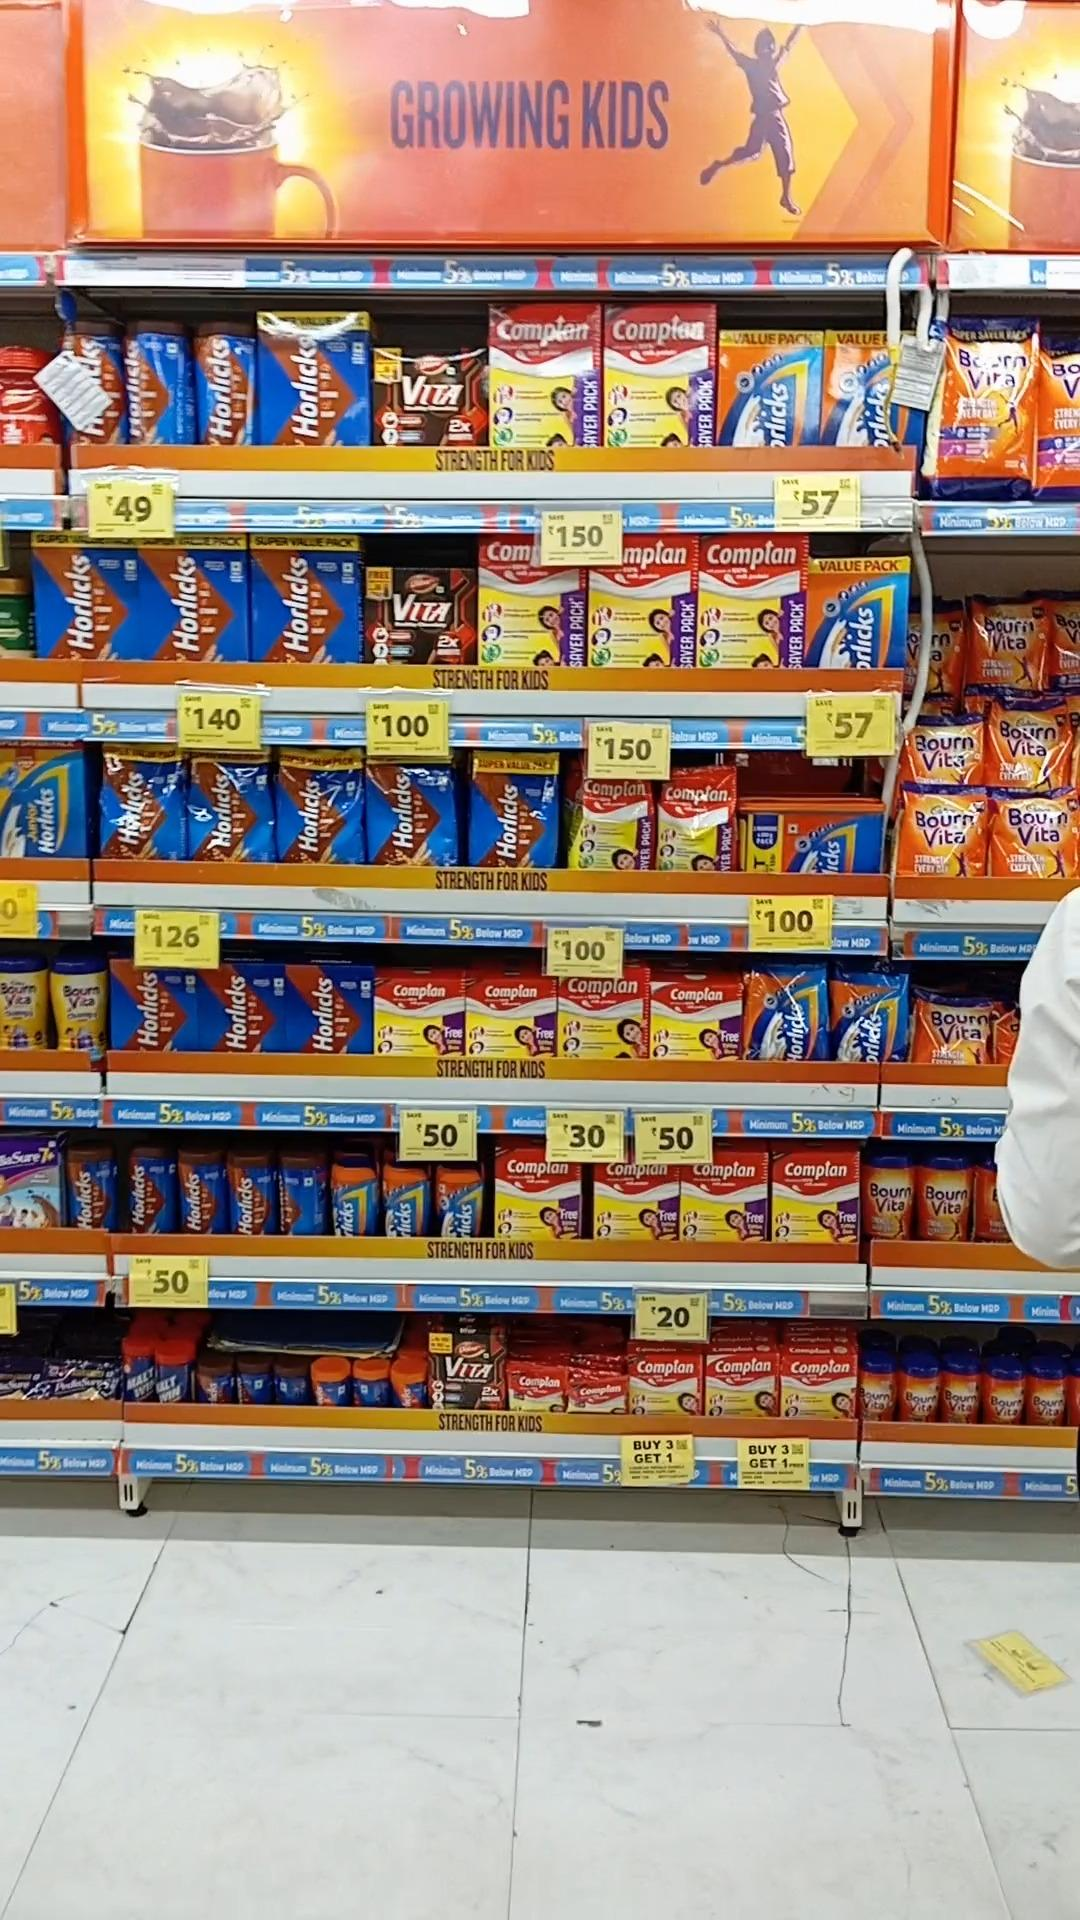BOURN_VITA_1_KG_POUCH: (938, 313, 1035, 497)
BOURN_VITA_200_G_JAR: (860, 1354, 899, 1424), (1029, 1362, 1068, 1428), (901, 1358, 939, 1425), (943, 1361, 982, 1423), (986, 1362, 1023, 1428)
BOURN_VITA_500_G_JAR: (865, 1154, 915, 1245), (918, 1155, 967, 1244)
BOURN_VITA_500_G_POUCH: (915, 992, 992, 1064)
BOURN_VITA_750_G_POUCH: (899, 775, 990, 877), (994, 789, 1080, 882), (973, 599, 1047, 695), (994, 702, 1063, 786), (902, 713, 984, 774)
BOURN_VITA_CHAMPS_500_G_JAR: (49, 957, 107, 1064), (0, 959, 47, 1052)
COMPLAN_CHOCOLATE_1_KG_PACK: (489, 302, 597, 447), (604, 307, 715, 444), (696, 535, 802, 673), (483, 531, 583, 667), (592, 535, 691, 667)
COMPLAN_CHOCOLATE_200_GMS_PACK: (629, 1353, 699, 1418)
COMPLAN_CHOCOLATE_500_GMS_PACK: (493, 1146, 580, 1237), (463, 978, 554, 1062), (770, 1150, 856, 1237), (375, 976, 462, 1058)
COMPLAN_CREAMY_CLASSIC_500_G_PACK: (649, 981, 741, 1060)
COMPLAN_KESAR_BADAM_200_GMS_PACK: (707, 1353, 777, 1416)
COMPLAN_RC_POUCH_700_GMS_12: (663, 769, 740, 872), (576, 781, 657, 877)
HORLICK_CHOCOLATE_1_KG_JAR: (59, 314, 124, 446), (129, 316, 189, 447), (199, 326, 256, 446)
HORLICK_CHOCOLATE_1_KG_PACK: (256, 311, 369, 450), (136, 535, 243, 665), (255, 530, 355, 661), (36, 529, 131, 657)
HORLICK_CHOCOLATE_200_G_JAR: (195, 1362, 233, 1404)
HORLICK_CHOCOLATE_500_G_JAR: (62, 1147, 113, 1236), (121, 1147, 169, 1237), (227, 1155, 274, 1234), (177, 1151, 220, 1234)
HORLICK_CHOCOLATE_500_G_PACK: (112, 957, 198, 1052), (199, 961, 284, 1058), (286, 964, 372, 1055)
HORLICK_CHOCOLATE_750_G_POUCH: (96, 745, 183, 860), (473, 752, 559, 865), (277, 746, 359, 865), (369, 754, 454, 868), (190, 749, 270, 868)
HORLICK_CLASSIC_MALT_500_G_JAR: (331, 1159, 380, 1237), (382, 1167, 431, 1237), (436, 1167, 484, 1237)
HORLICK_CLASSIC_MALT_500_G_PACK: (719, 330, 822, 447), (824, 336, 923, 450), (808, 558, 909, 661)
HORLICK_CLASSIC_MALT_750_G_POUCH: (746, 961, 827, 1063), (829, 973, 906, 1067)
PEDIASURE_7_PLUS_CHOCOLATE_400_G_PACK: (0, 1139, 58, 1229)
